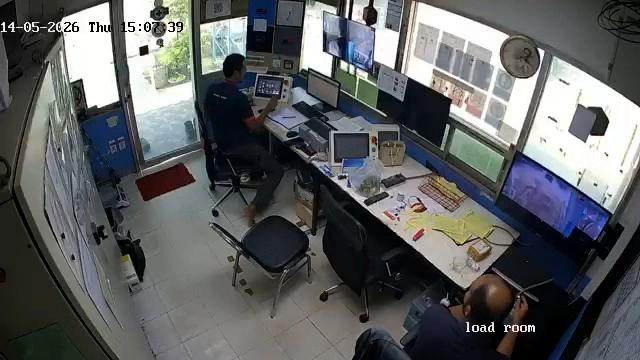Head: (461, 273, 510, 321), (219, 51, 250, 83)
People: (206, 53, 284, 217), (409, 272, 525, 360)
